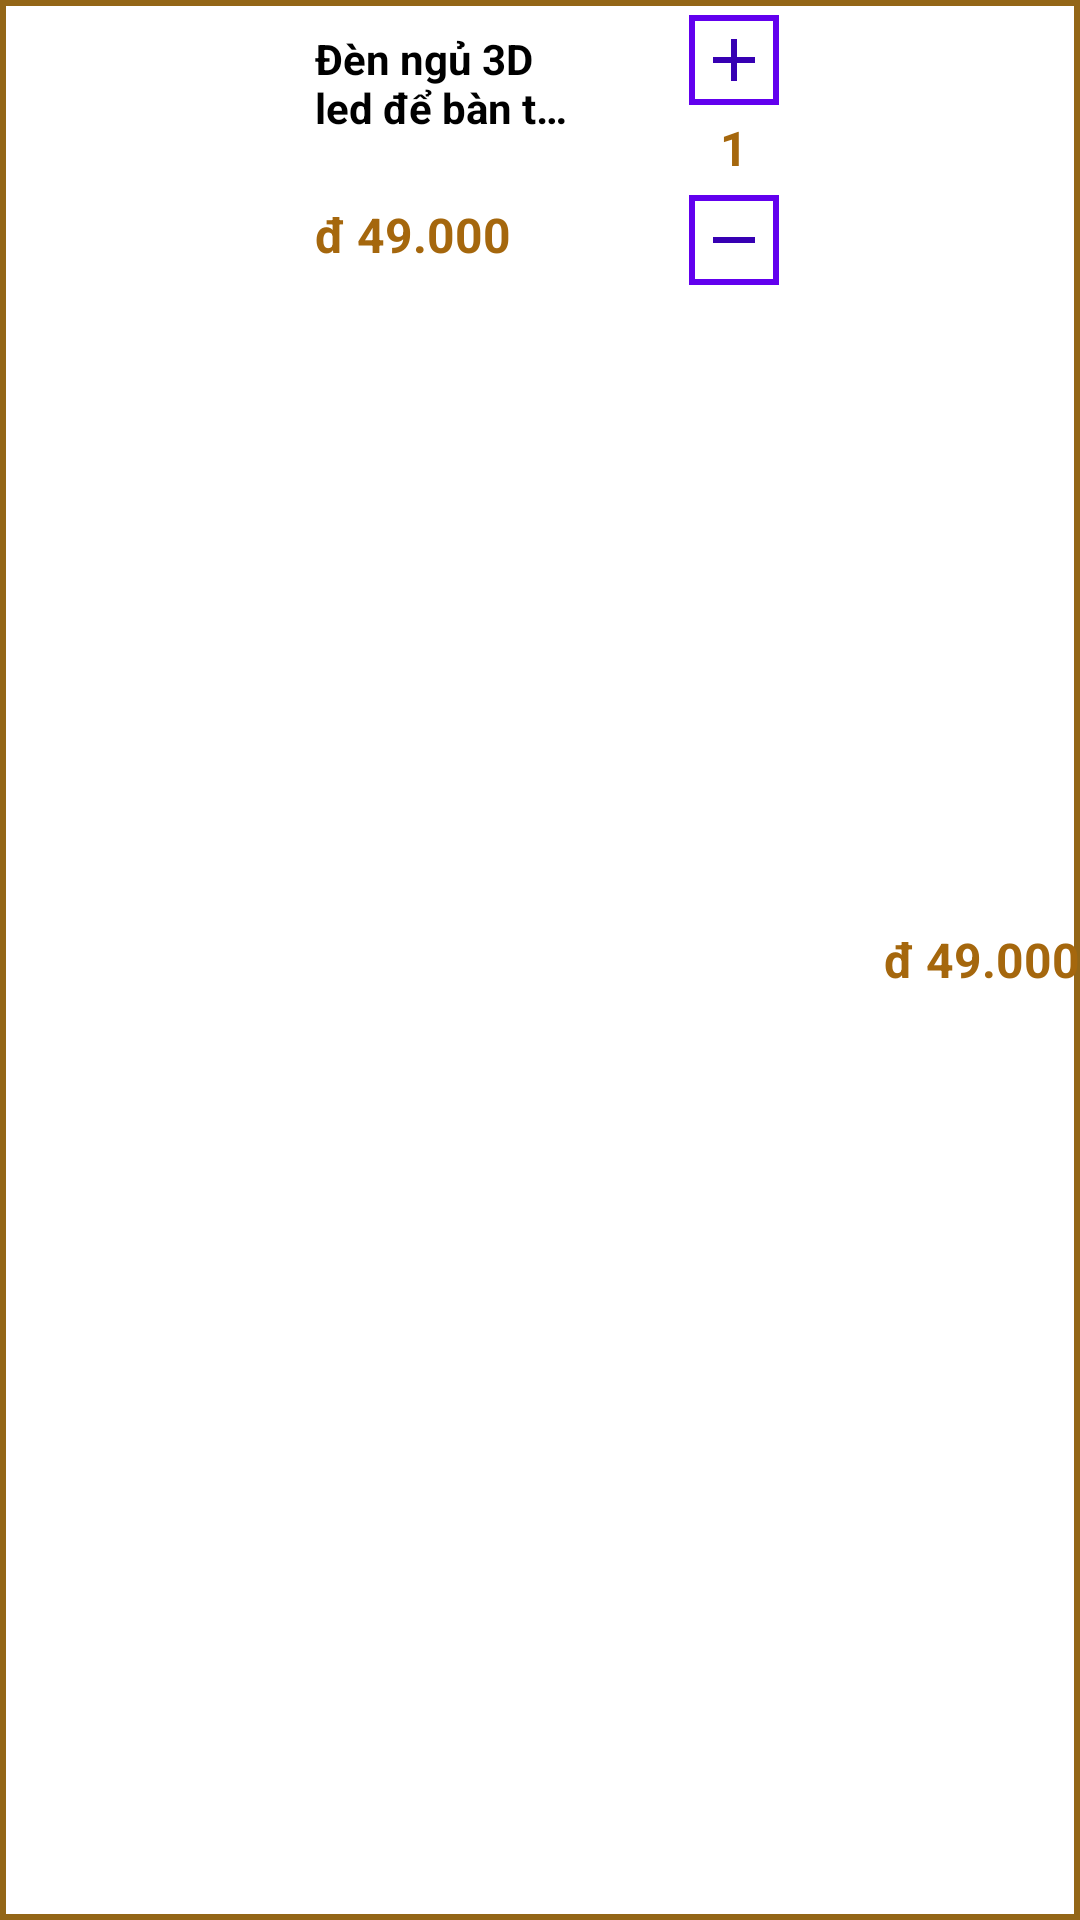

Icon click points for this 1080×1920 phone screenshot, format (x=x, y=y):
add: (x=734, y=60)
sub: (x=734, y=240)
